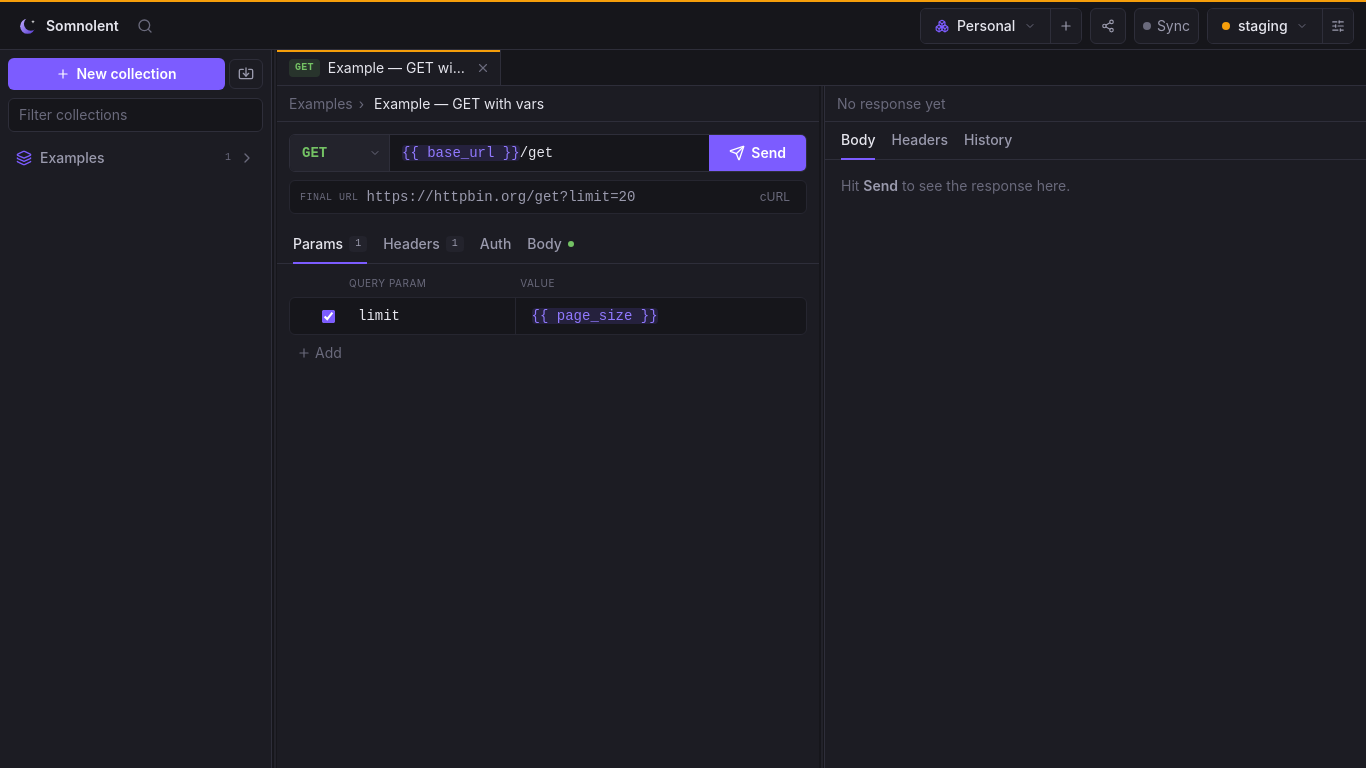
Test case: Form body type › a round trip between Form and JSON loses nothing already typed
Step 1. Click the button "Body" below "https://httpbin.org/get?limit=20" → [551, 245], box [527,226,574,264]
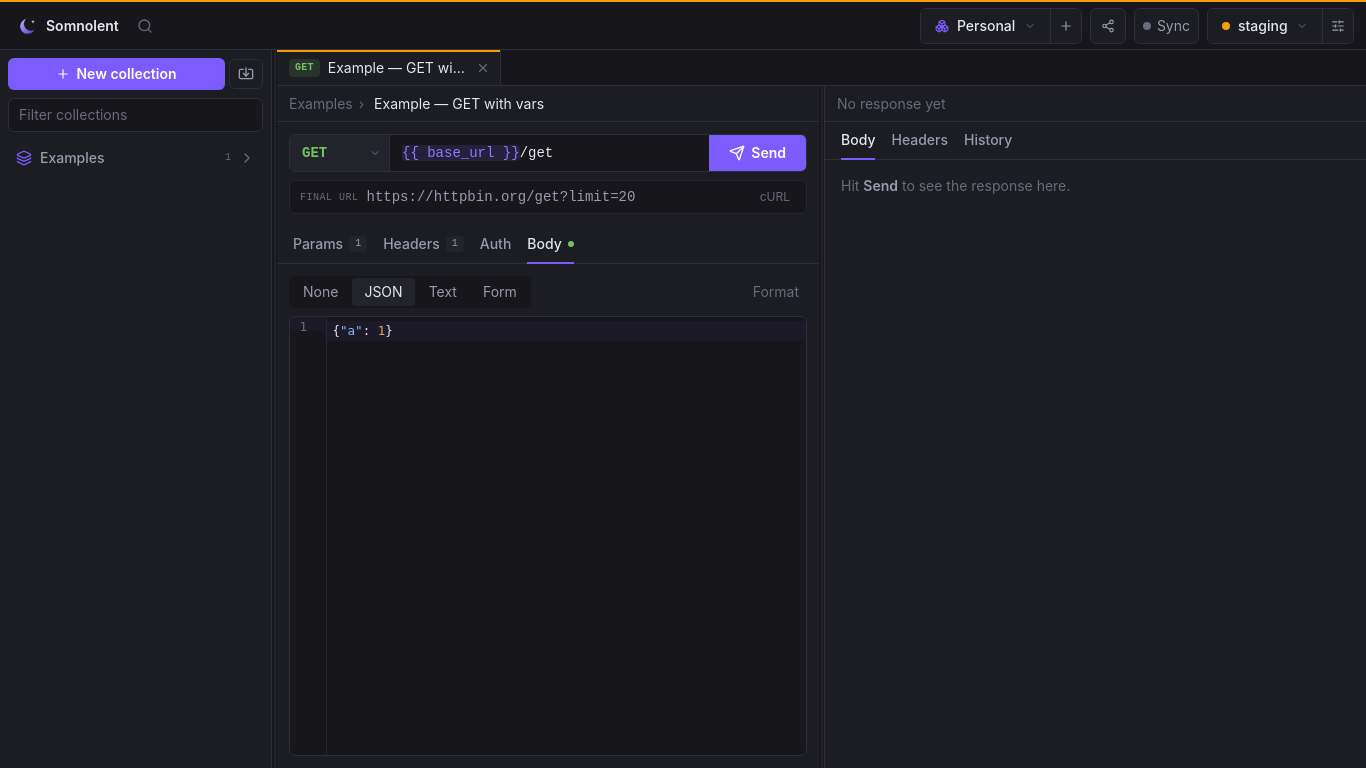
Step 2. Click the button "Form" → [500, 292], box [471,278,529,306]
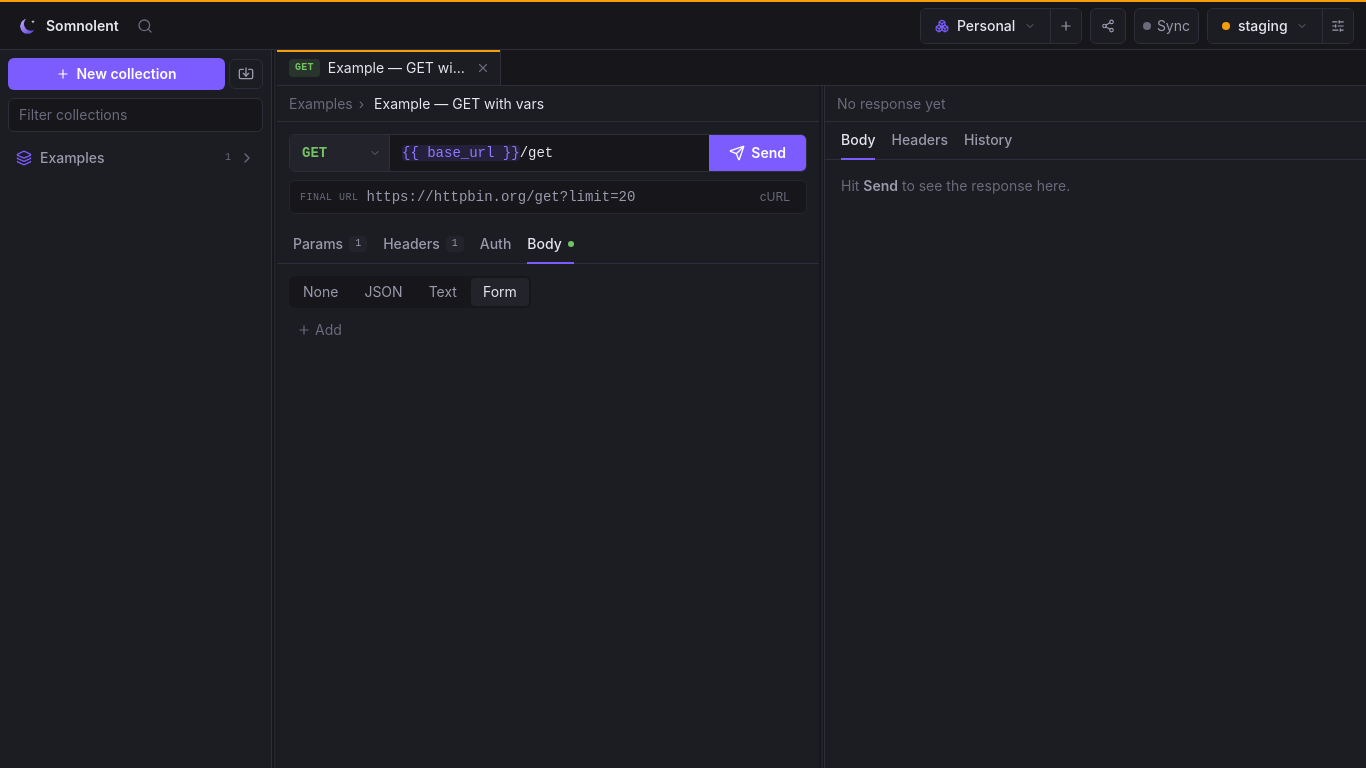
Step 3. Click the button "JSON" → [384, 292], box [352,278,415,306]
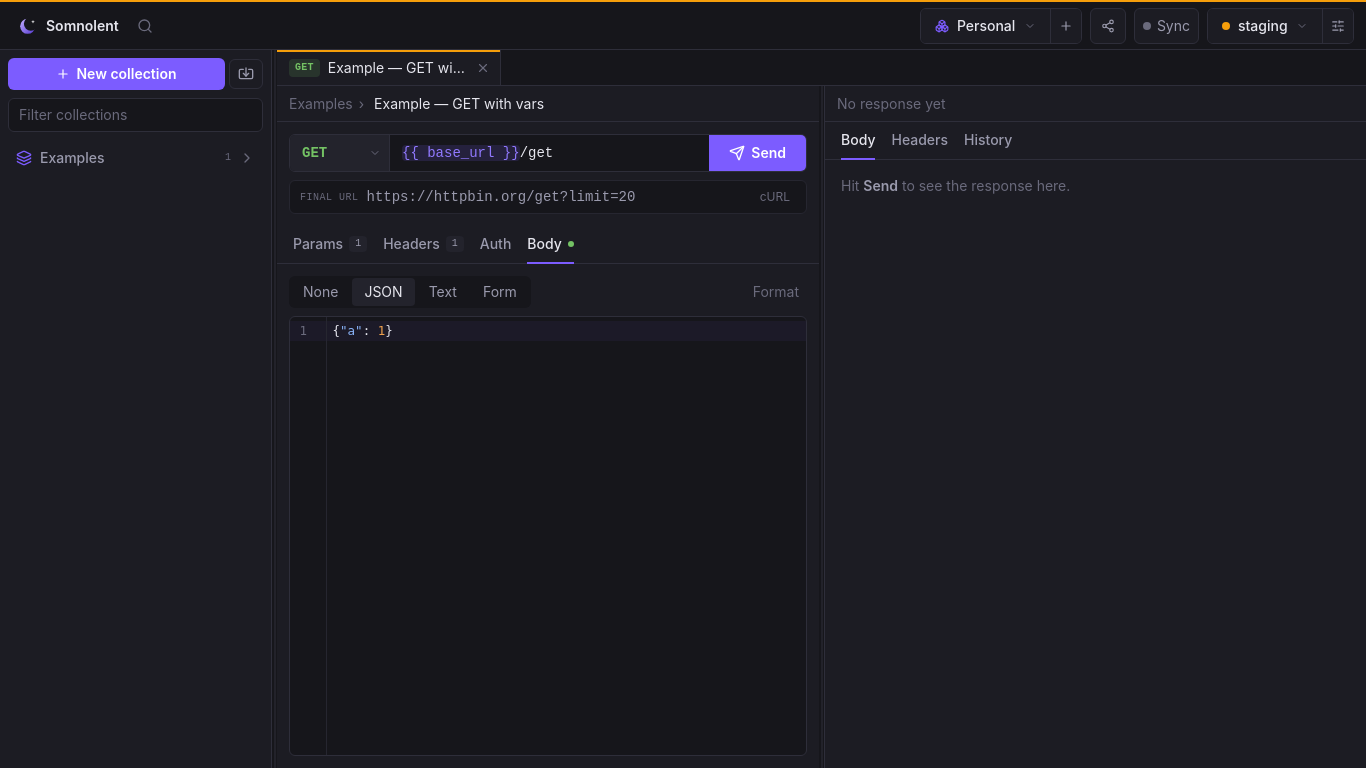
Expected: the text box labelled "{\"a\": 1}" reads "{\"a\": 1}", [326,321,806,341]
